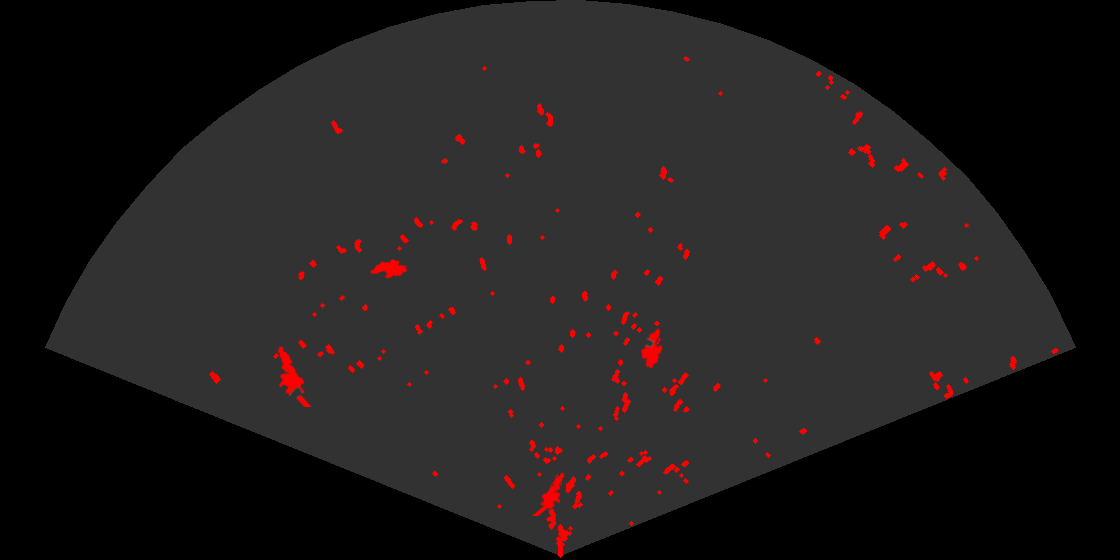AUV: (639, 327, 664, 370), (368, 257, 409, 280)
frogman: (276, 345, 313, 407), (530, 469, 570, 516)
